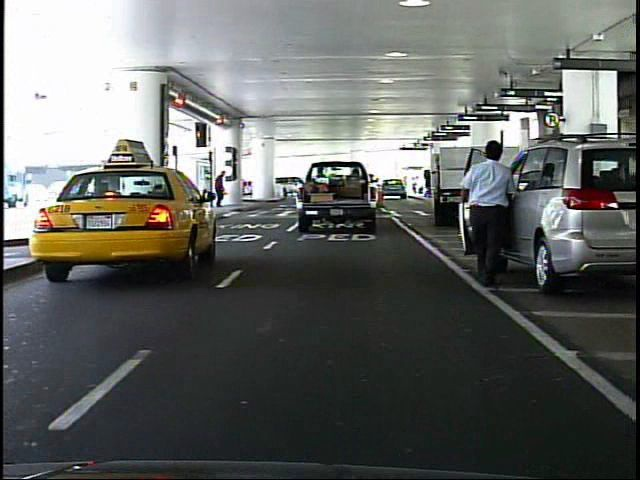person: (451, 131, 517, 290), (211, 166, 230, 208)
